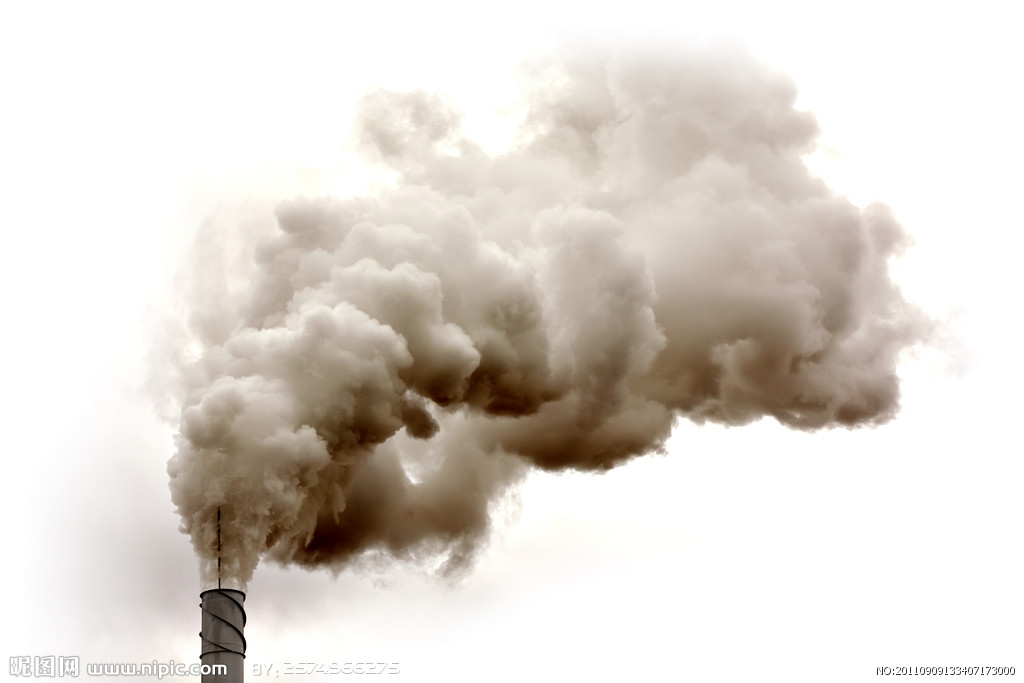dust: (161, 22, 944, 617)
